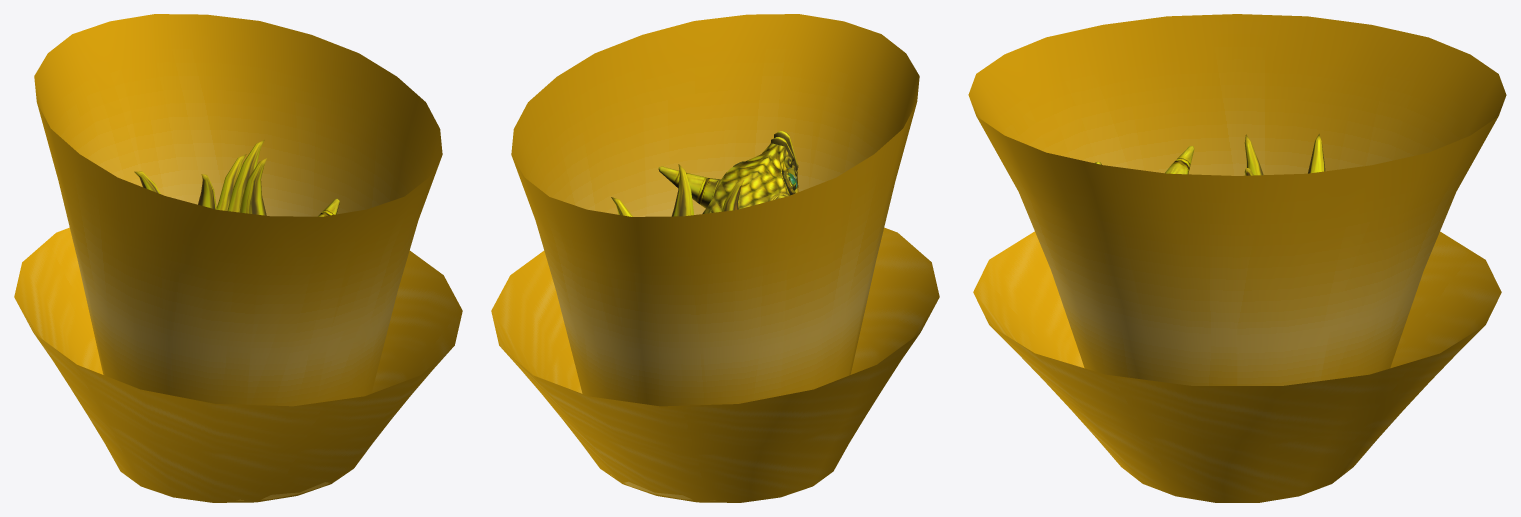
Rendered from Gold Idol.fbx.
3 views of the same model, side by side, from view 1: azimuth 30°, elevation 25°; view 2: azimuth 150°, elevation 25°; view 3: azimuth 270°, elevation 25° (orthographic). The views are drawn at different scales.
Parts seen in each view (by area): view 1: Top Effect, Bottom Effect, Legs; view 2: Top Effect, Bottom Effect, Body, Legs; view 3: Top Effect, Bottom Effect, Legs.
Part boxes in pixels (bbox=[...]): Top Effect: bbox=[34, 14, 442, 500]; Bottom Effect: bbox=[14, 227, 462, 502]; Legs: bbox=[134, 140, 267, 215]; Top Effect: bbox=[511, 14, 919, 500]; Bottom Effect: bbox=[491, 227, 939, 502]; Body: bbox=[658, 131, 798, 213]; Legs: bbox=[611, 164, 744, 216]; Top Effect: bbox=[968, 14, 1506, 471]; Bottom Effect: bbox=[973, 231, 1501, 502]; Legs: bbox=[1244, 134, 1325, 175].
Size of the model in its own units: 1737 by 1606 by 2110.
4 materials, 4 textured.
